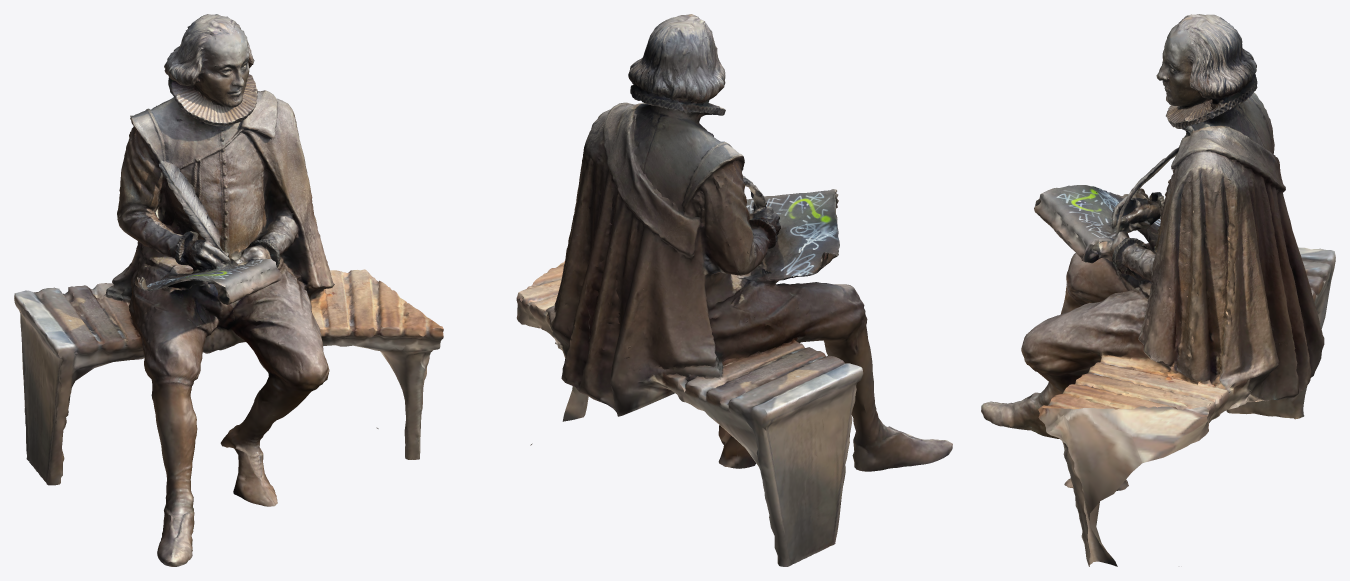
Rendered from william_shakespeare_statue.glb.
The picture shows the model from 3 angles, left to right: view 1: azimuth 30°, elevation 25°; view 2: azimuth 150°, elevation 25°; view 3: azimuth 270°, elevation 25°; orthographic projection. The views are drawn at different scales.
Visible parts, largest first — view 1: Node 172440_Material 0_0; view 2: Node 172440_Material 0_0; view 3: Node 172440_Material 0_0.
Part boxes in pixels (x1,y1,x2,y2): Node 172440_Material 0_0: (14, 14, 443, 566); Node 172440_Material 0_0: (516, 14, 952, 566); Node 172440_Material 0_0: (981, 14, 1335, 566).
Bounding box in the file's own units: 1.06 × 1.42 × 0.9685.
1 material, 1 textured.
